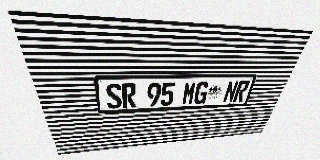5: (160, 82, 175, 106)
9: (147, 82, 162, 107)
G: (193, 81, 210, 104)
M: (181, 82, 197, 105)
N: (222, 81, 239, 103)
R: (121, 83, 136, 108), (233, 80, 250, 102)
S: (105, 83, 122, 109)
